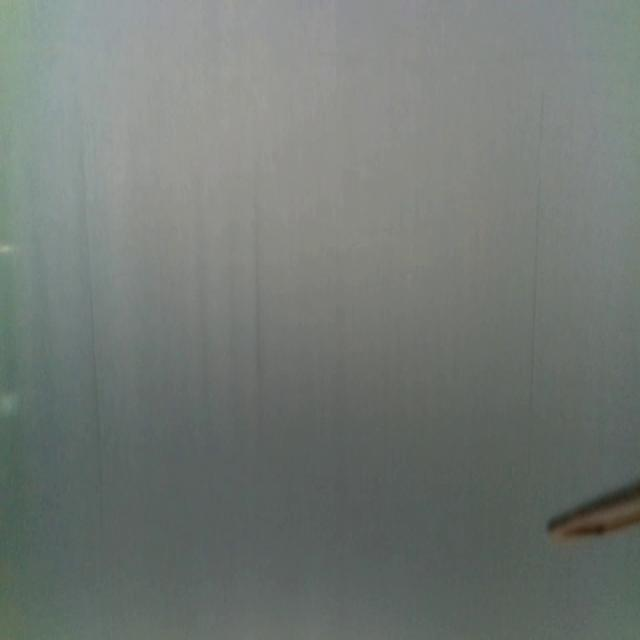crease: (528, 85, 546, 428), (89, 280, 102, 456)
